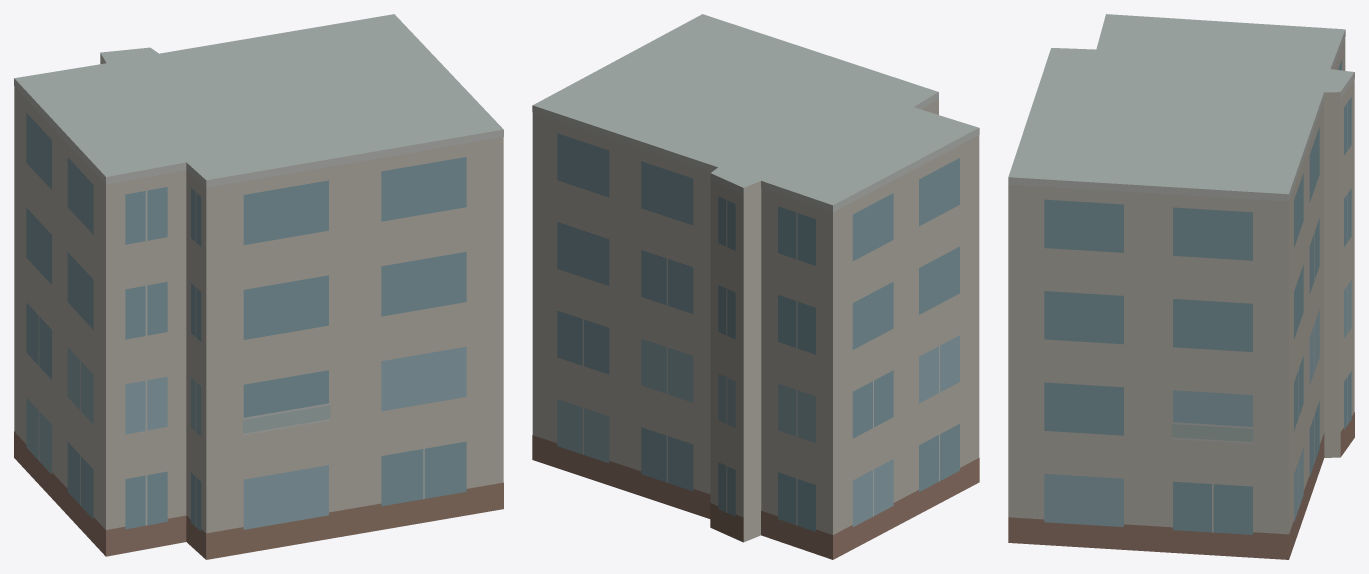
Rendered from survey-upis-32996896.glb.
The picture shows the model from 3 angles, left to right: view 1: azimuth 30°, elevation 25°; view 2: azimuth 150°, elevation 25°; view 3: azimuth 270°, elevation 25°; orthographic projection. The views are drawn at different scales.
Visible parts, largest first — view 1: survey-upis-32996896.tmp; view 2: survey-upis-32996896.tmp; view 3: survey-upis-32996896.tmp.
Part boxes in pixels (x1,y1,x2,y2): survey-upis-32996896.tmp: [14, 14, 503, 559]; survey-upis-32996896.tmp: [532, 14, 979, 559]; survey-upis-32996896.tmp: [1008, 14, 1354, 559].
Bounding box in the file's own units: 12.91 × 12.2 × 10.49.
